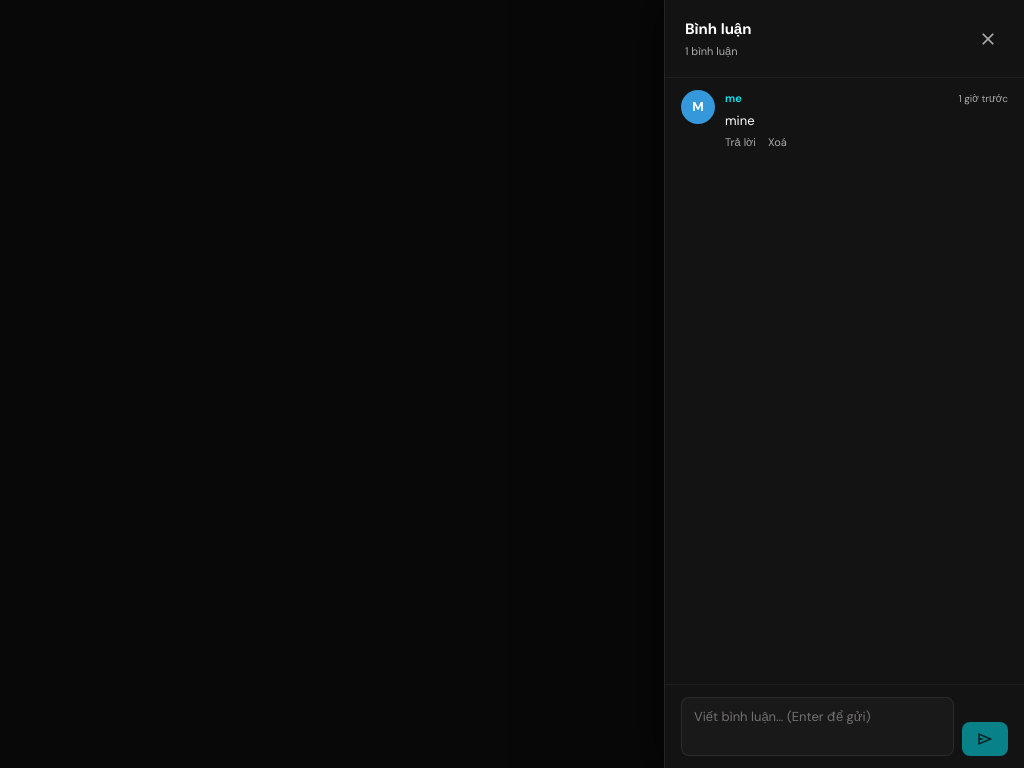
CommentPanel › deleting reloads the list
This screenshot has width=1024, height=768.
Check: the text "mine" is shown, box [725,112,755,128]
Click the button "Xoá". click: (777,142)
box: [768,134,787,150]
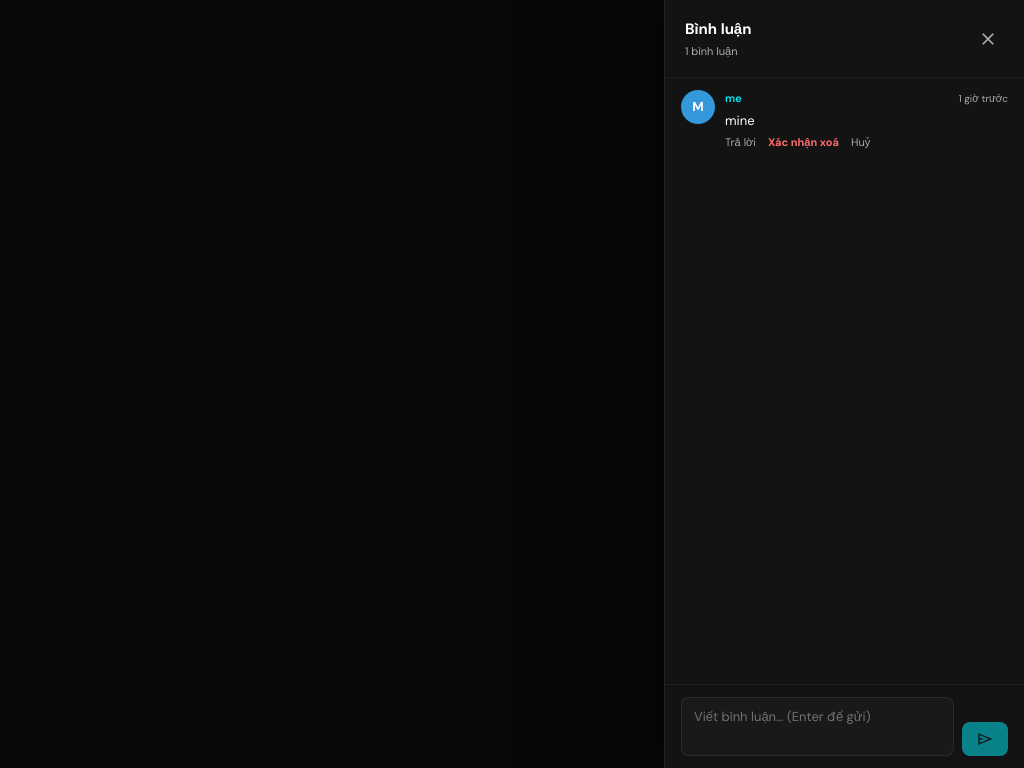
Click the button "Xác nhận xoá". click: (804,142)
box: [768,134,839,150]
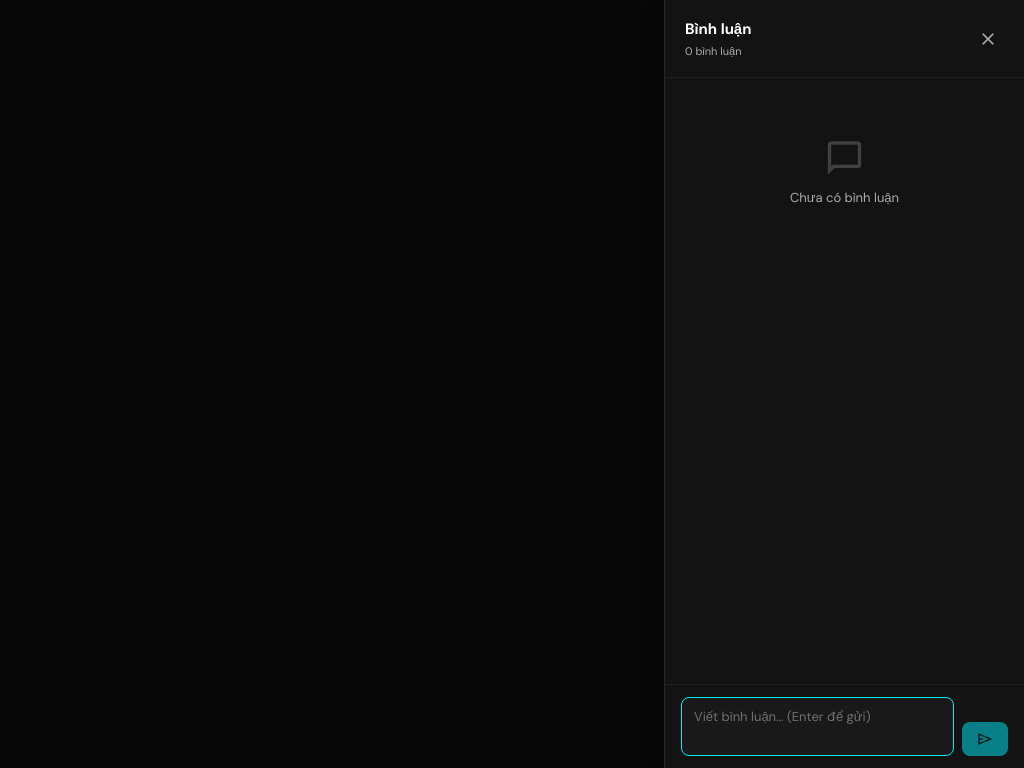
Check: the text "Chưa có bình luận" is shown, box [790,188,899,208]
